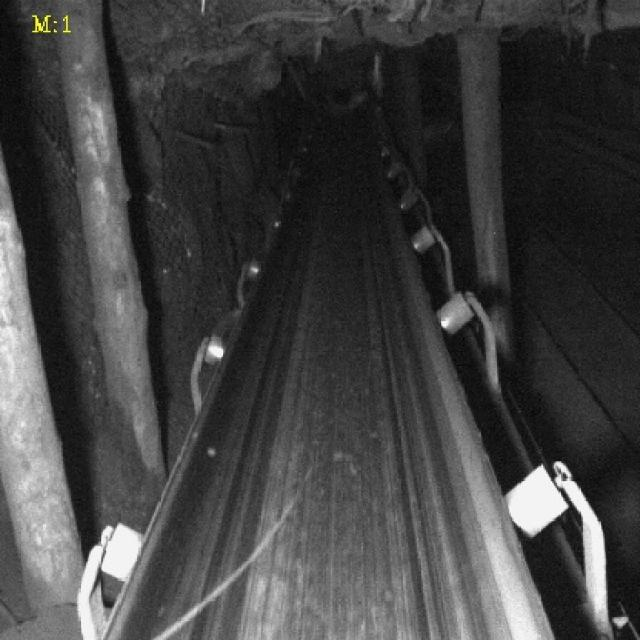bolt: (157, 477, 305, 638)
